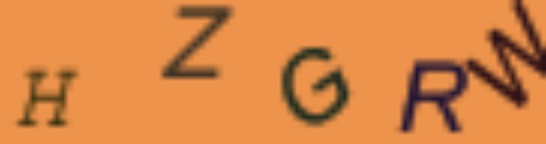G: (275, 44, 357, 127)
H: (14, 65, 78, 131)
R: (394, 54, 471, 136)
W: (467, 1, 546, 110)
Z: (157, 1, 238, 79)
